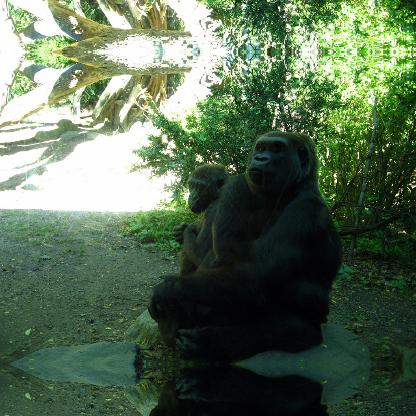Monkey: (148, 130, 342, 364), (148, 364, 343, 415)
